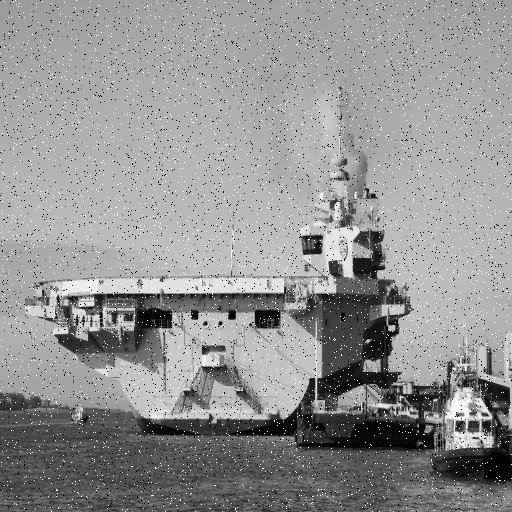Portanaves: (23, 80, 417, 438)
